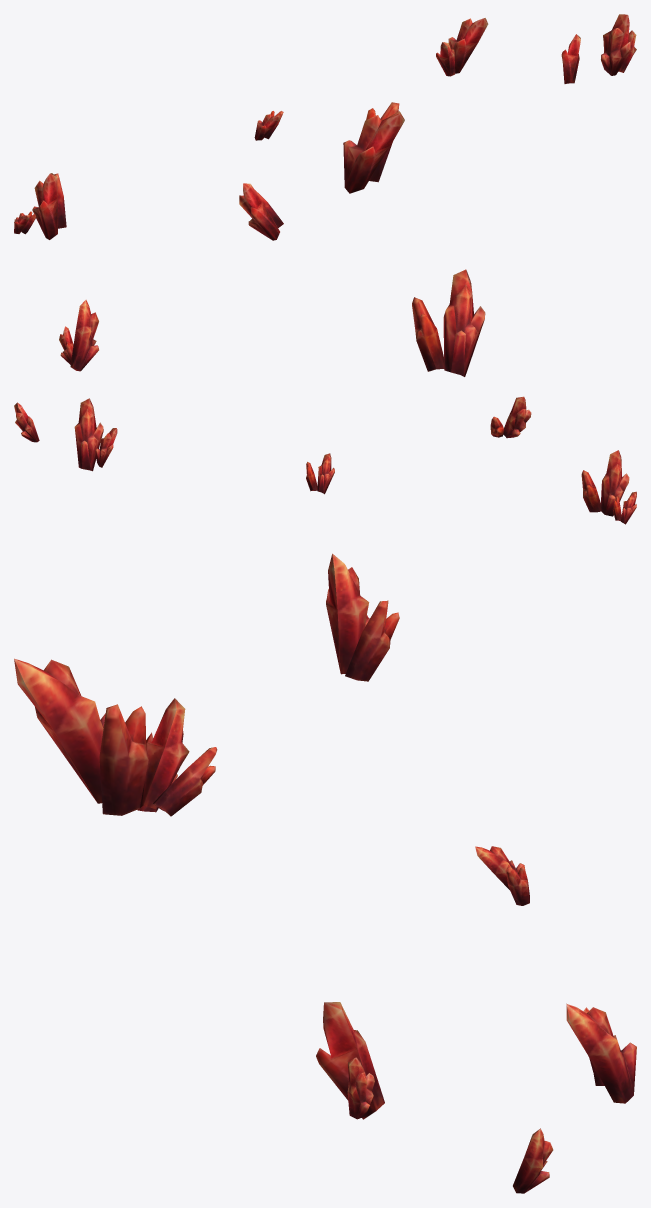
File: yanshi13_shuijing_1.fbx
3 renders of one model, top to bottom at view 1: azimuth 30°, elevation 25°; view 2: azimuth 150°, elevation 25°; view 3: azimuth 270°, elevation 25°, orthographic. The views are drawn at different scales.
Parts seen in each view (by area): view 1: yanshi13_shuijing_1; view 2: yanshi13_shuijing_1; view 3: yanshi13_shuijing_1.
Part boxes in pixels (x1,y1,x2,y2): yanshi13_shuijing_1: [14, 14, 636, 240]; yanshi13_shuijing_1: [14, 269, 636, 524]; yanshi13_shuijing_1: [14, 553, 636, 1193].
Size of the model in its own units: 3023 by 724 by 1529.
